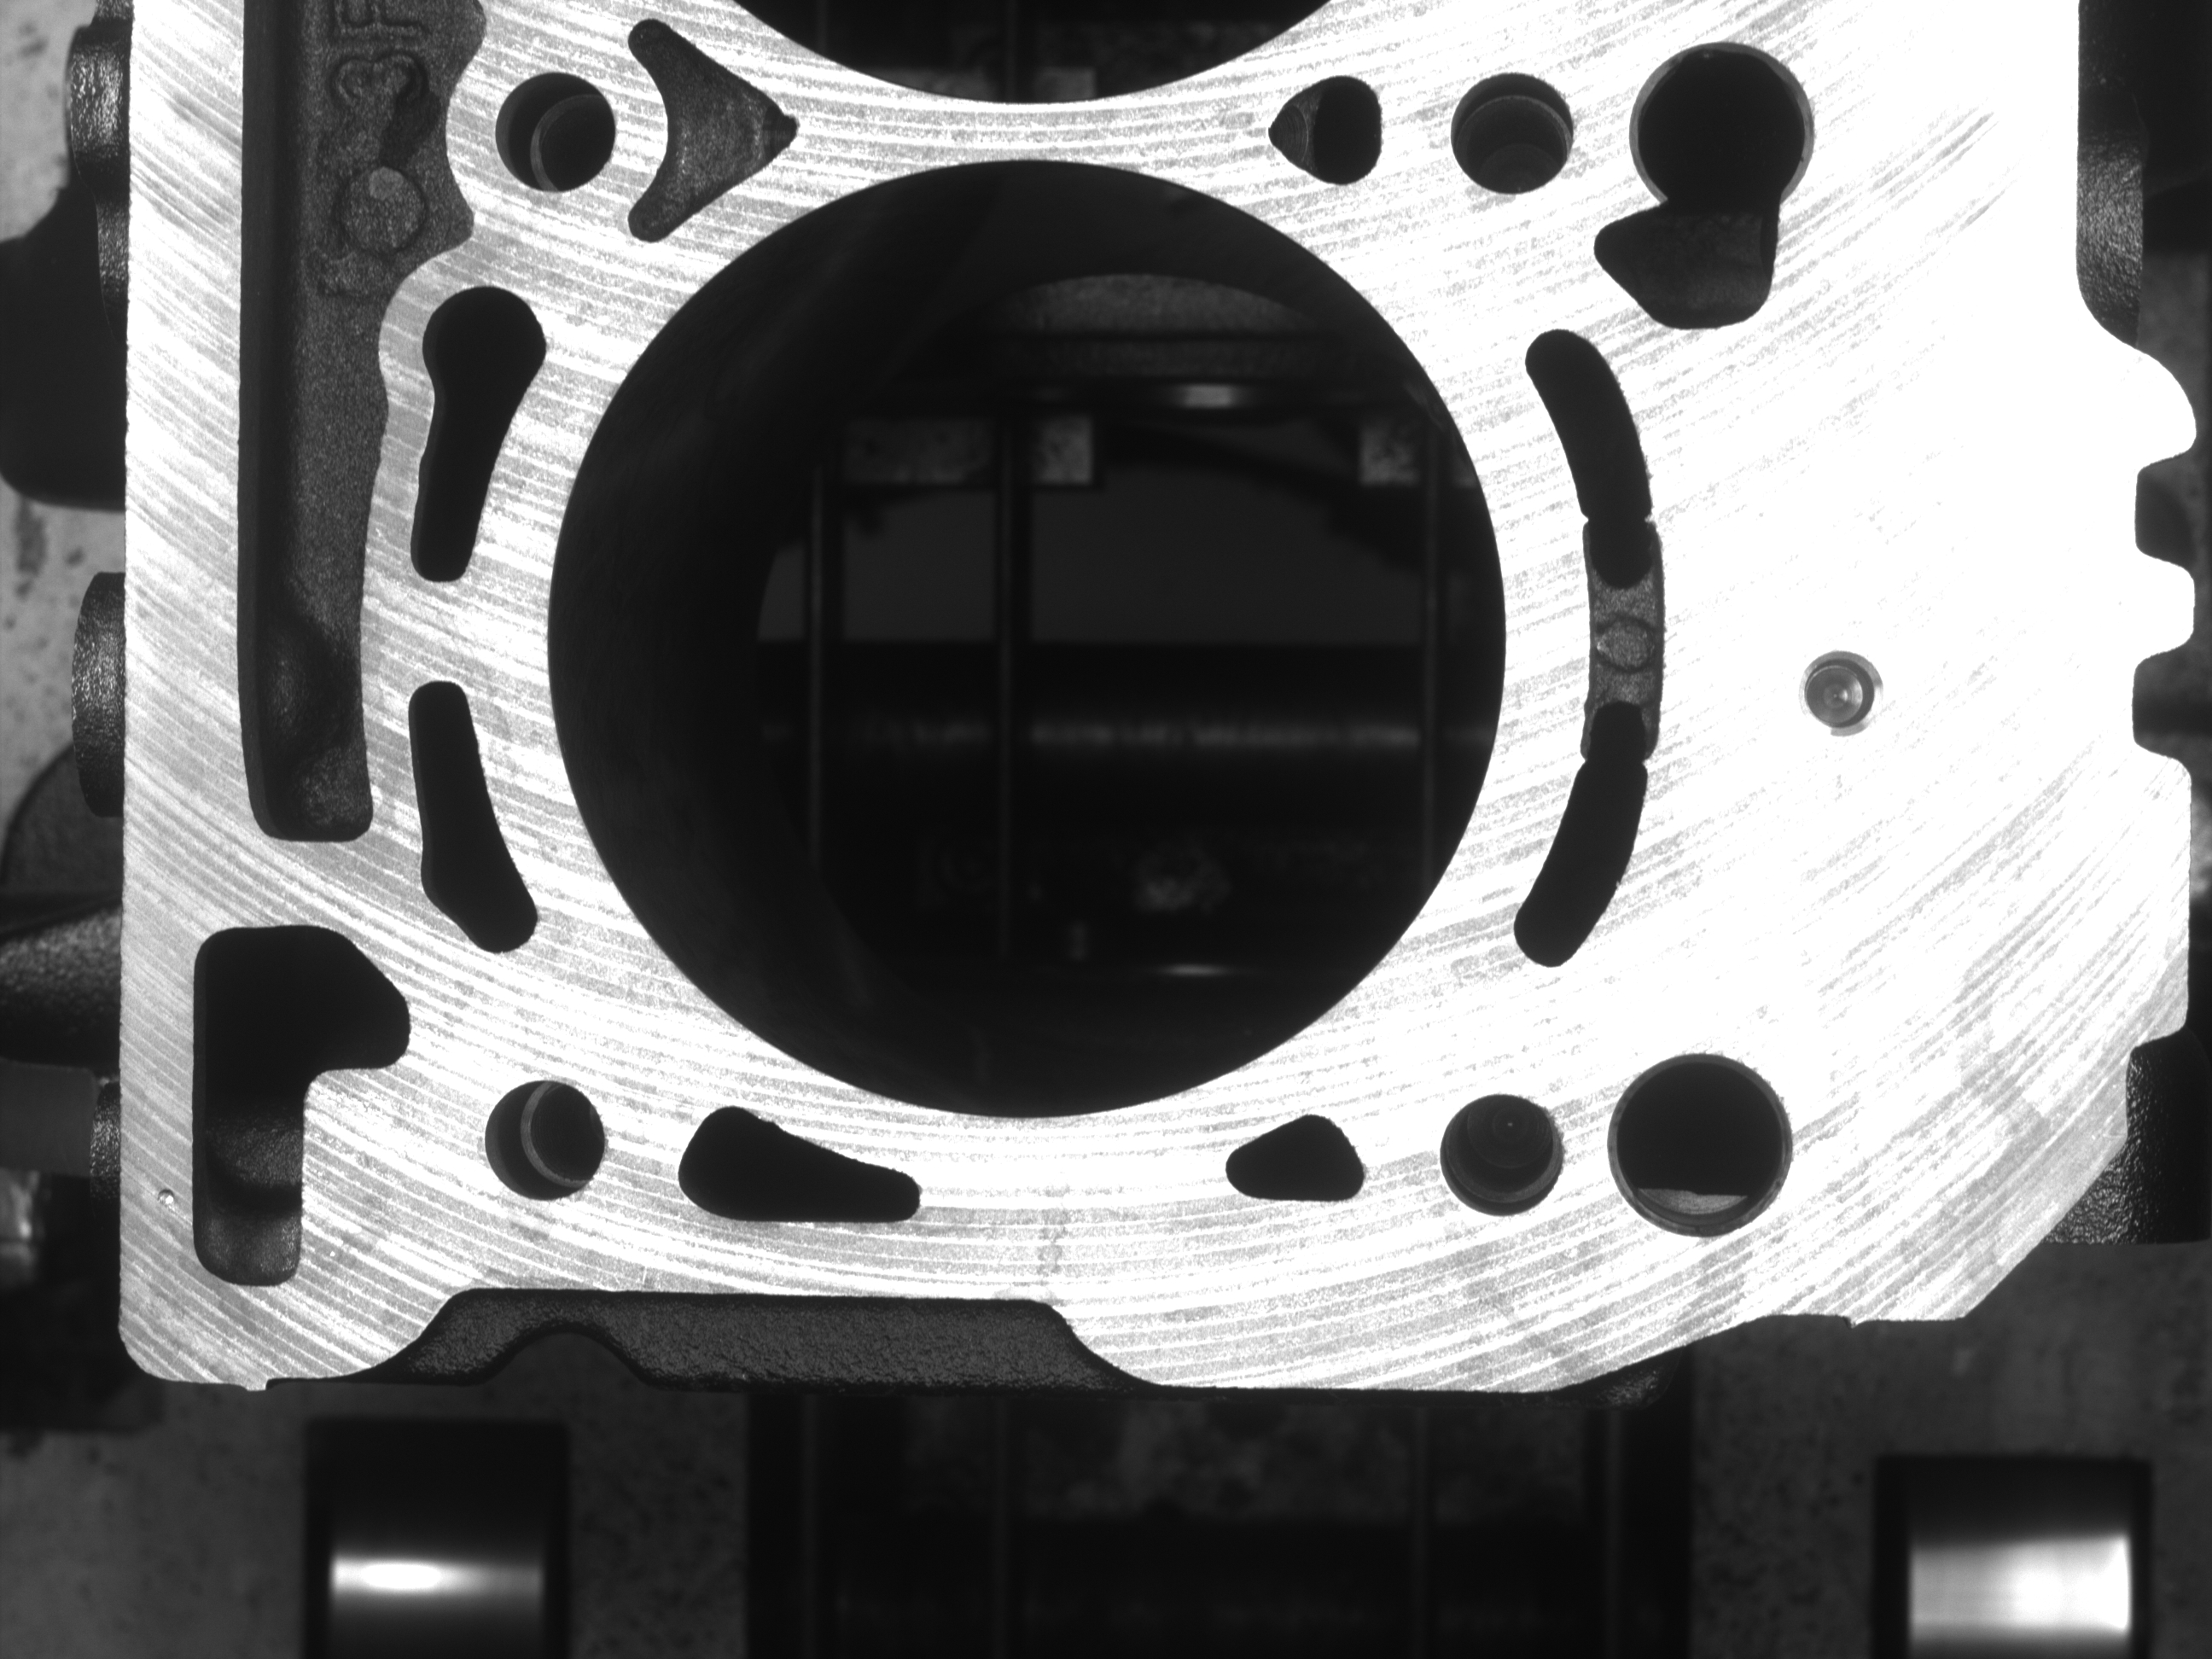shrinkage: (132, 1164, 183, 1234)
